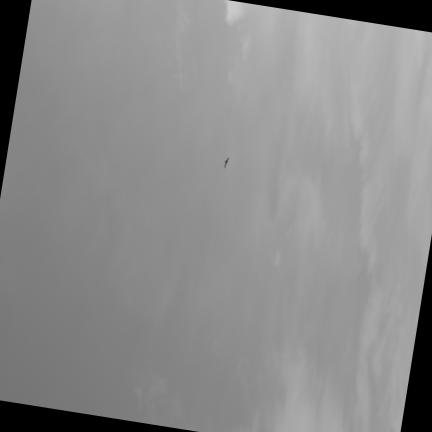Shahed: (224, 157, 229, 167)
